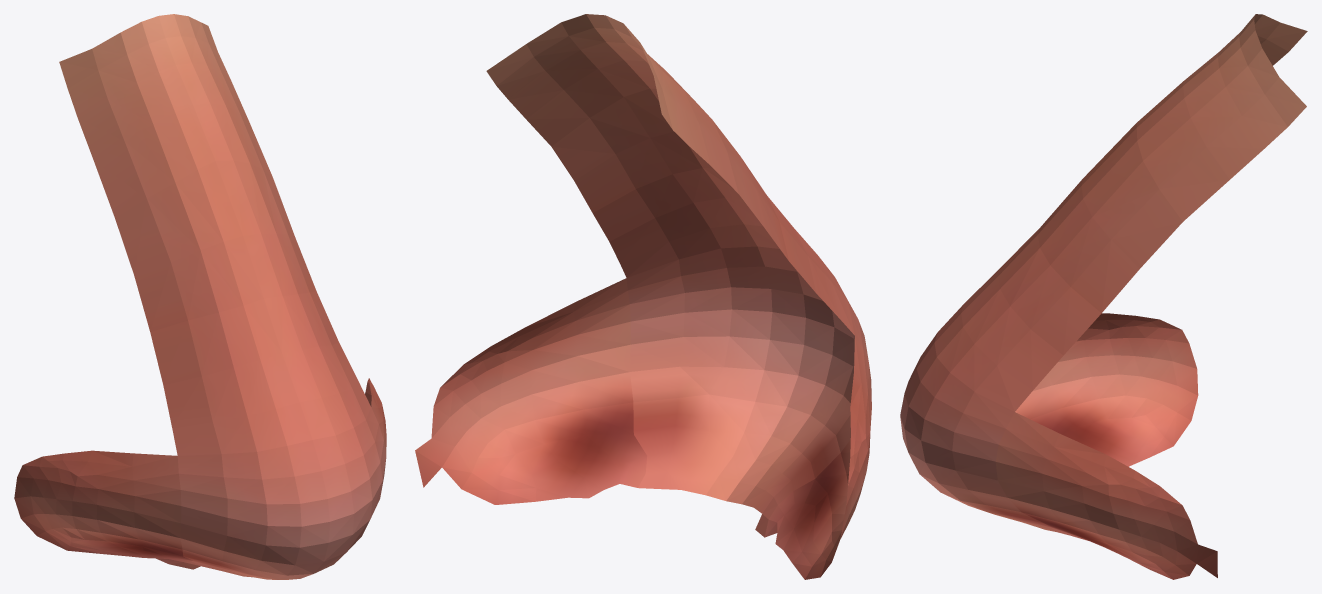
Rendered from euro-nose-bridge-long.obj.
3 renders of one model, left to right at view 1: azimuth 30°, elevation 25°; view 2: azimuth 150°, elevation 25°; view 3: azimuth 270°, elevation 25°, orthographic. The views are drawn at different scales.
Visible parts, largest first — view 1: euro-nose-bridge-long.001; view 2: euro-nose-bridge-long.001; view 3: euro-nose-bridge-long.001.
Boxes of the visible parts, x1=… form: euro-nose-bridge-long.001: x1=14, y1=14, x2=386, y2=579; euro-nose-bridge-long.001: x1=415, y1=14, x2=871, y2=579; euro-nose-bridge-long.001: x1=900, y1=14, x2=1307, y2=579.
Size of the model in its own units: 0.3471 by 0.4592 by 0.3359.
1 material, 1 textured.
